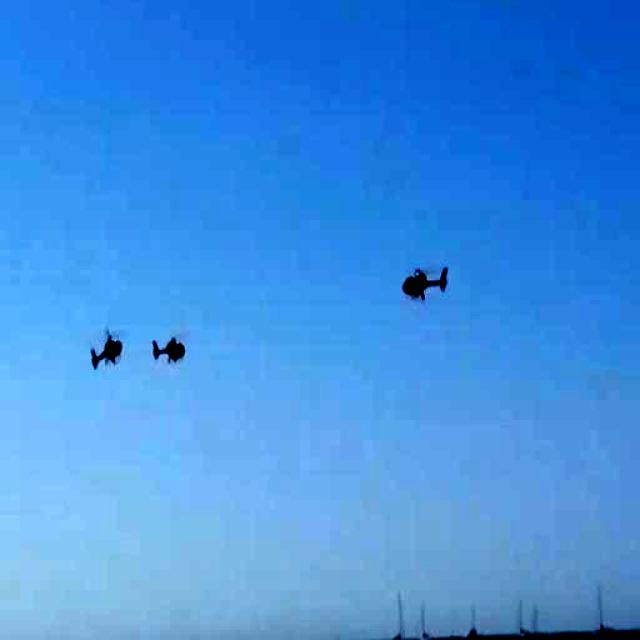drone: (402, 252, 455, 306), (86, 325, 121, 372), (150, 328, 189, 370)
